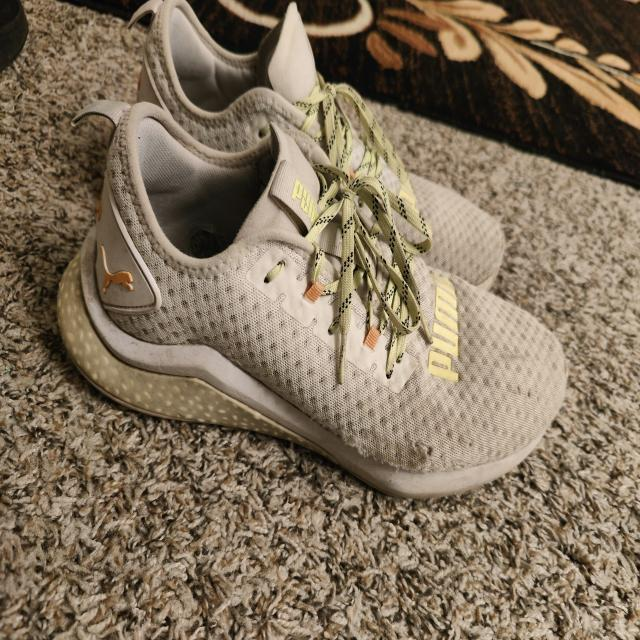white shoes: (69, 1, 568, 489)
